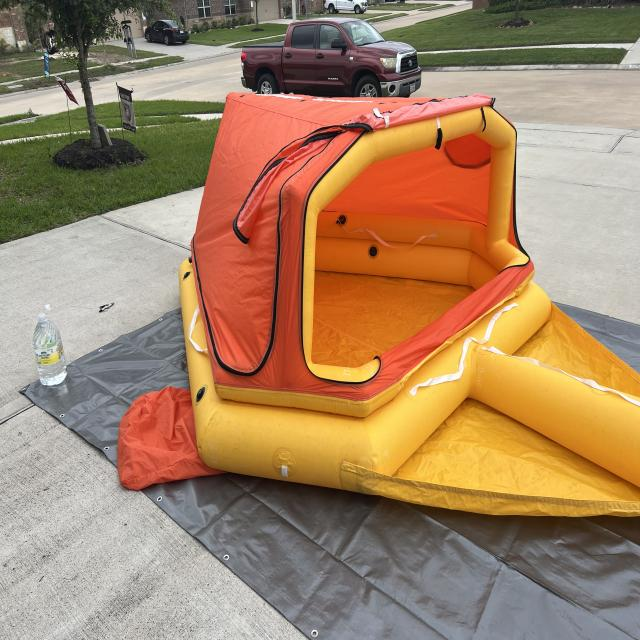Multi-person_life_raft: (117, 91, 640, 517)
